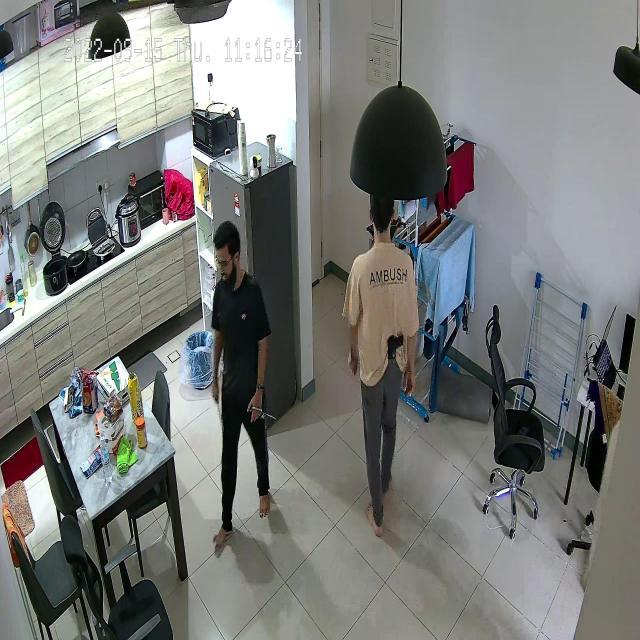Gun: (379, 322, 408, 368)
